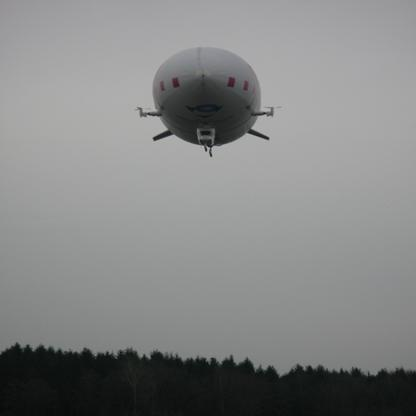Airship: (136, 44, 280, 169)
